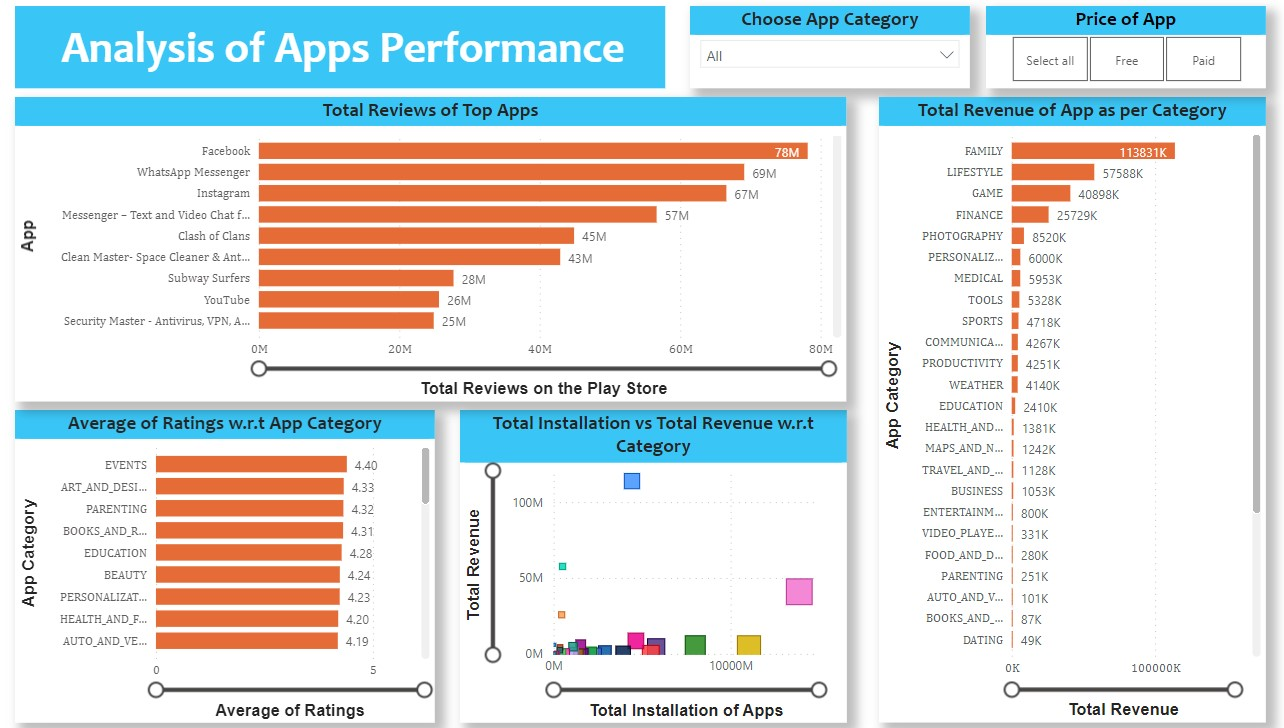

The page's visual inventory and layout, read from the dashboard file:
{"tool":"powerbi","page":{"name":"App Performance","canvas":[1280,720],"ordinal":1},"visuals":[{"type":"scatterChart","title":"Total Installation vs Total Revenue w.r.t Category","fields":{"X":["Google_data_cleaned.Total Installation"],"Y":["Google_data_cleaned.Total revenue"],"Category":["Google_data_cleaned.category"],"Size":["Google_data_cleaned.Total Installation"]},"box":[472,408,376,304],"z":0},{"type":"barChart","title":"Average of Ratings w.r.t App Category","fields":{"Y":["Avg(Google_data_cleaned.rating)"],"Category":["Google_data_cleaned.category"]},"box":[40,408,408,304],"z":1000},{"type":"slicer","title":"Choose App Category","fields":{"Values":["Google_data_cleaned.category"]},"box":[696,16,272,80],"z":2000},{"type":"barChart","title":"Total Revenue of App as per Category","fields":{"Category":["Google_data_cleaned.category"],"Y":["Sum(Google_data_cleaned.Revenue)"]},"box":[880,104,376,608],"z":3000},{"type":"barChart","title":"Total Reviews of Top Apps","fields":{"Y":["Sum(Google_data_cleaned.reviews)"],"Category":["Google_data_cleaned.app"]},"box":[40,104,808,296],"z":4000},{"type":"slicer","title":"Price of App","fields":{"Values":["Google_data_cleaned.App_Price"]},"box":[984,16,272,80],"z":5000},{"type":"shape","box":[40,16,632,80],"z":6000},{"type":"textbox","box":[80,24,576,80],"z":7000}]}

Visuals, with their boxes in screenshot pixels (x1, y1, x2, y2), scaled from the page's 1280x720 canvas onto the 1284x728 screenshot:
"Total Installation vs Total Revenue w.r.t Category" scatterChart: <bbox>473, 413, 851, 720</bbox>
"Average of Ratings w.r.t App Category" barChart: <bbox>40, 413, 449, 720</bbox>
"Choose App Category" slicer: <bbox>698, 16, 971, 97</bbox>
"Total Revenue of App as per Category" barChart: <bbox>883, 105, 1260, 720</bbox>
"Total Reviews of Top Apps" barChart: <bbox>40, 105, 851, 404</bbox>
"Price of App" slicer: <bbox>987, 16, 1260, 97</bbox>
shape: <bbox>40, 16, 674, 97</bbox>
textbox: <bbox>80, 24, 658, 105</bbox>
